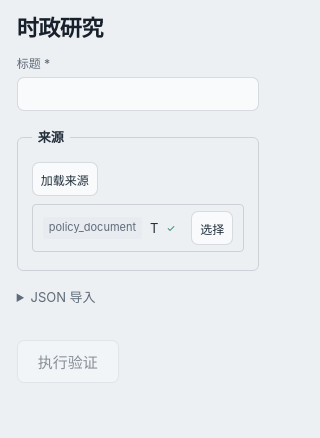
Scenario: lifecycle › does not render permission approval or rejection controls
The width and height of the screenshot is (320, 438).
Click the button "选择".
click(212, 228)  # box [191,211,233,245]
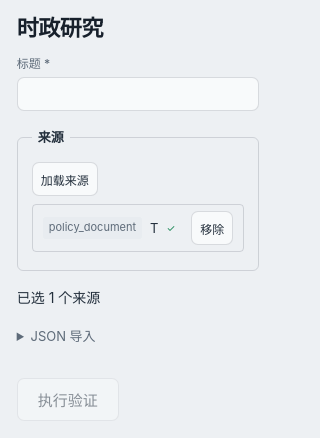
Type "T" into the field with id "ca-title".
click(138, 94); type("T")  # box [17,77,259,111]
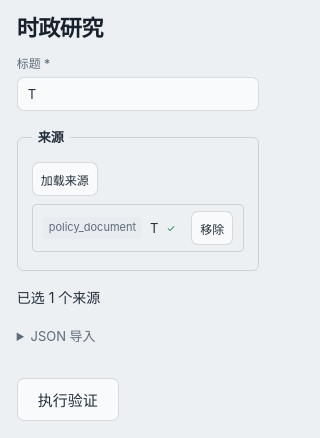
Click the button "执行验证".
click(68, 400)  # box [17,378,119,421]
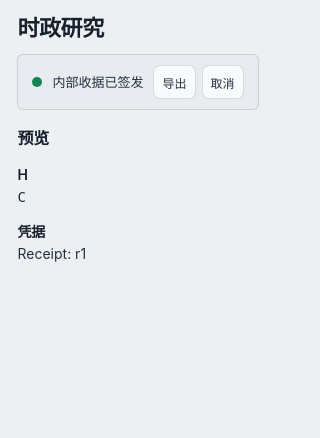
Check: the button "导出" is shown, box [154,65,196,99]
